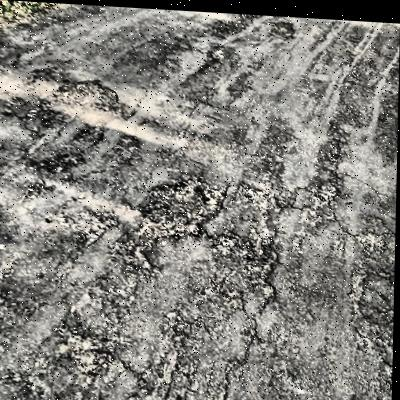pothole: (134, 170, 220, 241), (51, 75, 121, 112), (267, 15, 297, 38)
